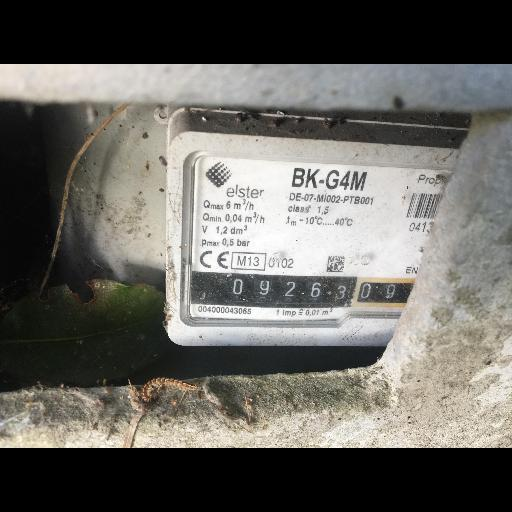0: (228, 276, 251, 303), (358, 280, 379, 305)
2: (279, 280, 303, 305)
3: (331, 281, 351, 306)
6: (303, 279, 327, 306)
9: (253, 277, 278, 304), (380, 282, 400, 304)
border_water_meter_number: (216, 273, 417, 312)
